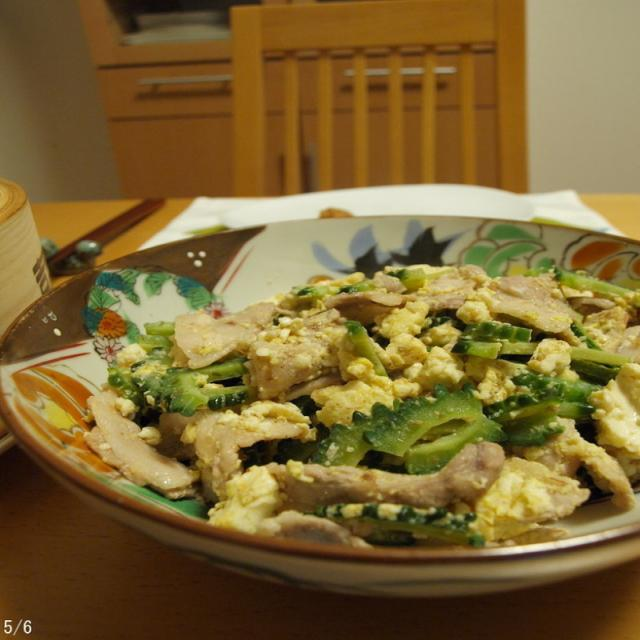熟制海鲜: (0, 195, 640, 611)
